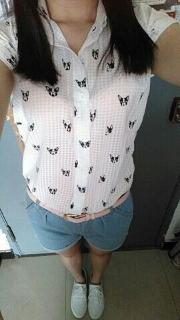short sleeve top: (0, 0, 179, 215)
shorts: (25, 187, 134, 252)
